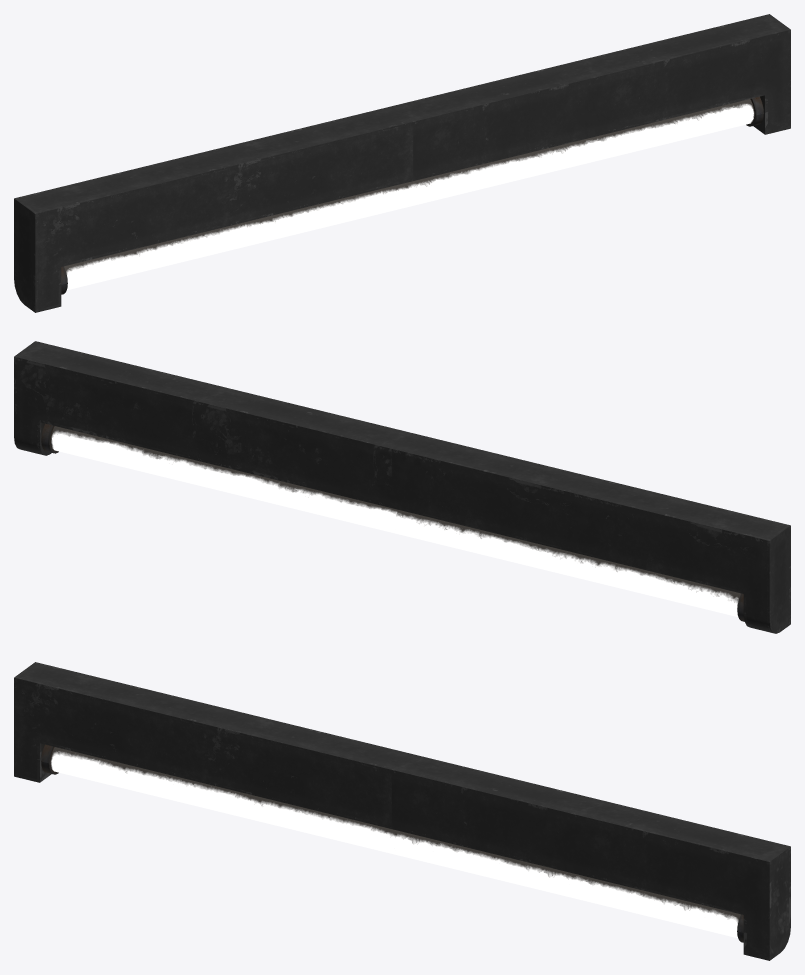
File: SM_Door_lamp_a.fbx
The picture shows the model from 3 angles, top to bottom: view 1: azimuth 30°, elevation 25°; view 2: azimuth 150°, elevation 25°; view 3: azimuth 330°, elevation 25°; orthographic projection.
Parts seen in each view (by area): view 1: SM_Door_lamp_a_LOD0; view 2: SM_Door_lamp_a_LOD0; view 3: SM_Door_lamp_a_LOD0.
Part boxes in pixels (x1,y1,x2,y2): SM_Door_lamp_a_LOD0: [14, 14, 790, 312]; SM_Door_lamp_a_LOD0: [14, 341, 790, 633]; SM_Door_lamp_a_LOD0: [14, 662, 790, 960].
Bounding box in the file's own units: 100 × 4.89 × 12.51.
Materials: 1 (1 with a texture image).
